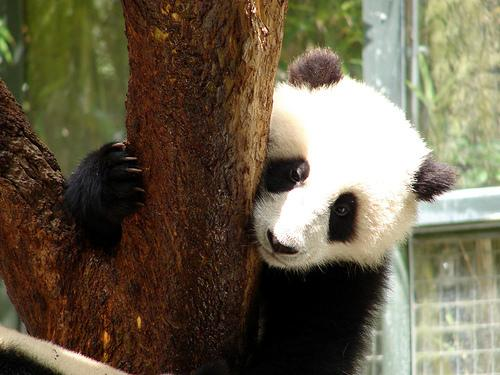panda: (246, 48, 454, 374), (65, 142, 140, 246)
